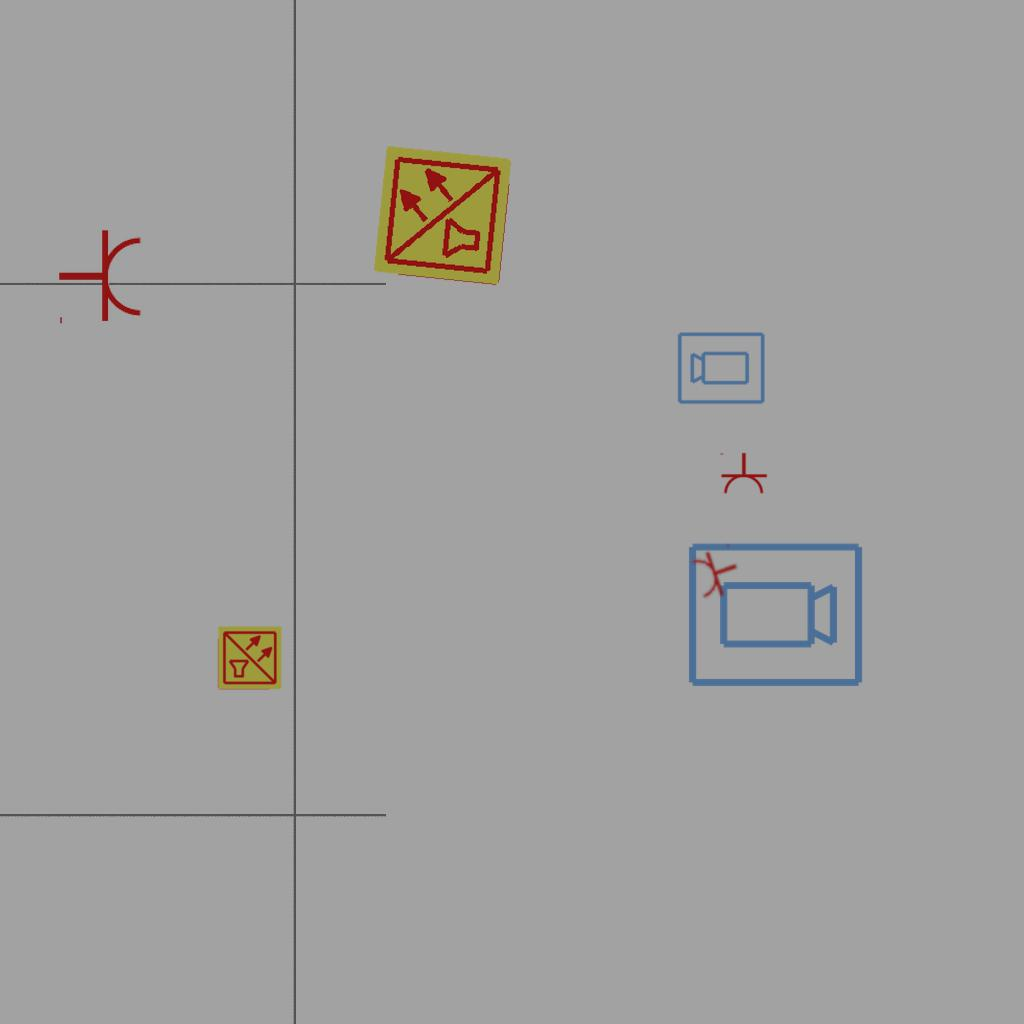KFO_Kamera_mit_Festobjektiv: (684, 539, 866, 693), (676, 329, 767, 406)
OKW_Multisensormelder_(Kombination_optischer_Rauch-Kahlenmonoxid_Waerme-Melder): (370, 142, 516, 288), (217, 625, 283, 691)
Schukosteckdose_einfach: (57, 228, 144, 328), (688, 541, 745, 603), (718, 452, 768, 495)
